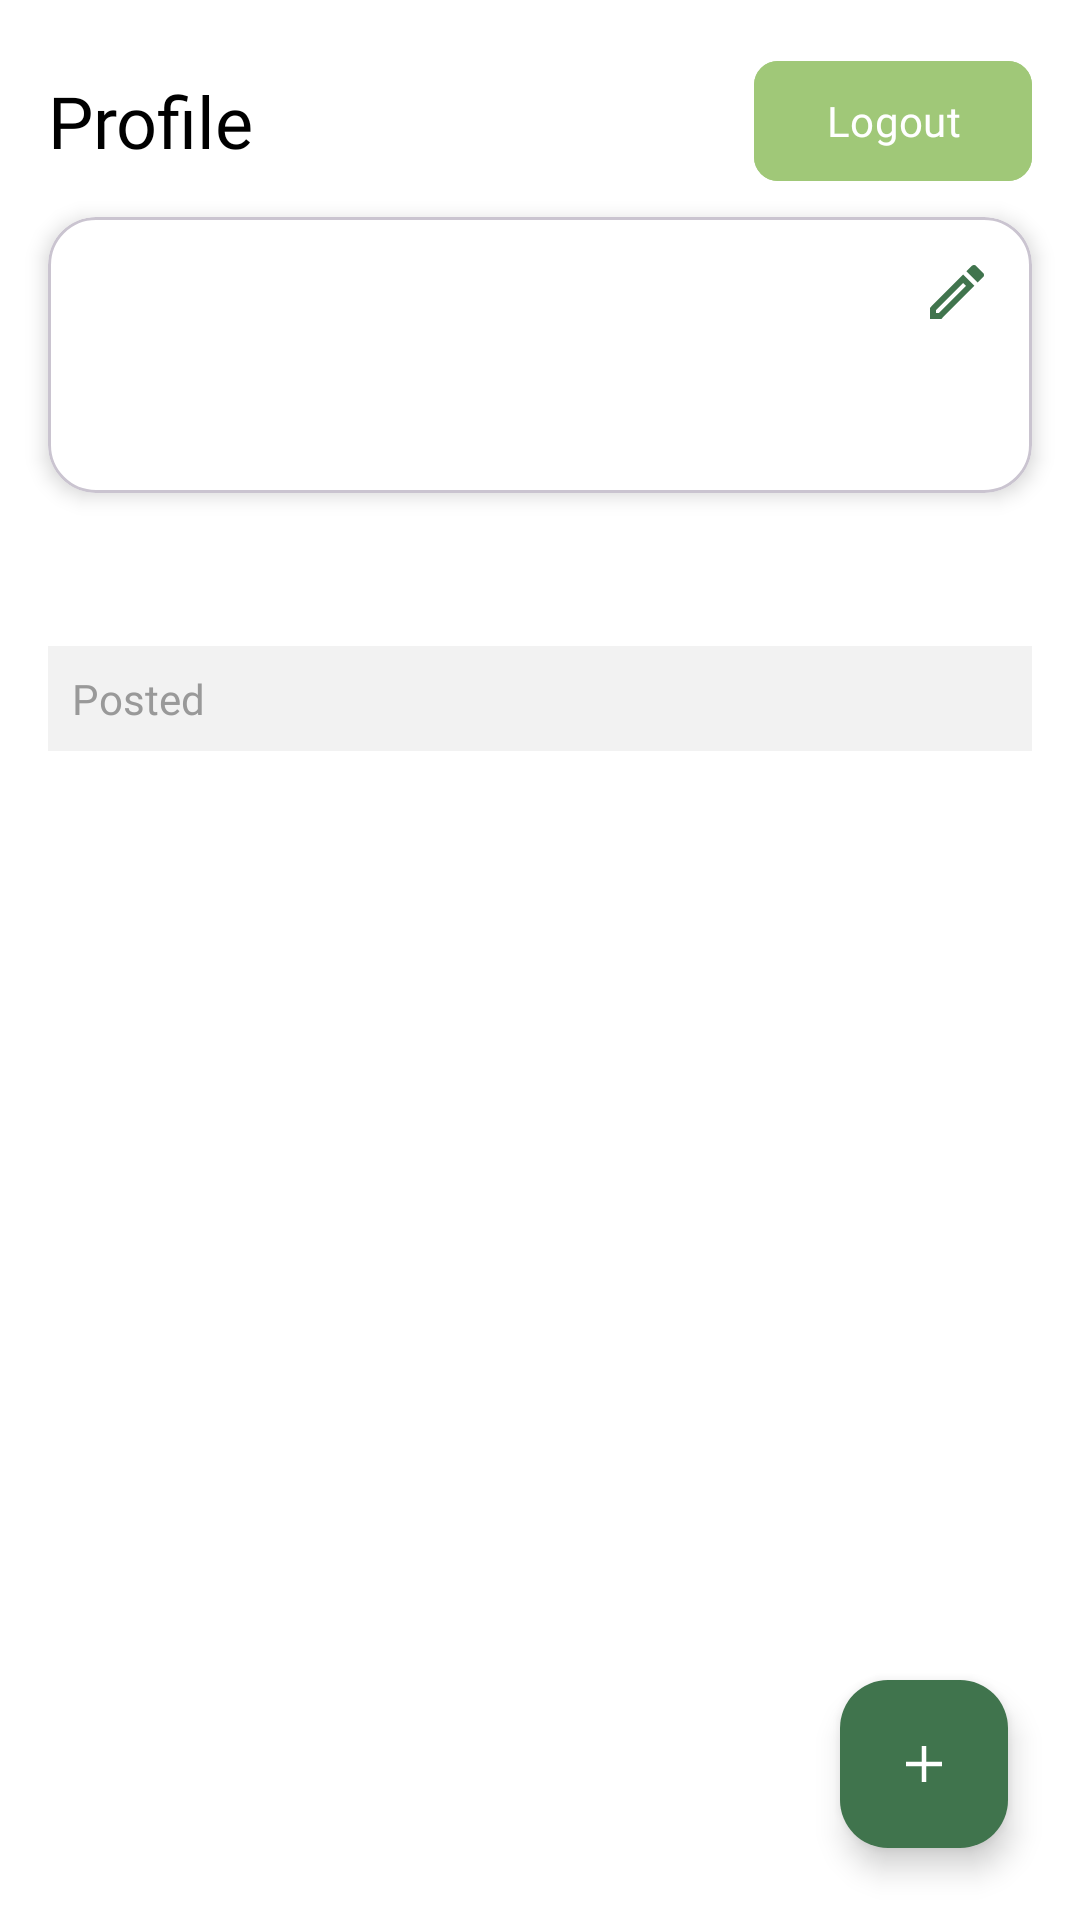

Where icons sit on this 1080w x 1920h app screen, as (x1, y1, x2, y2):
add: (840, 1680, 1008, 1848)
edit: (930, 265, 984, 319)
